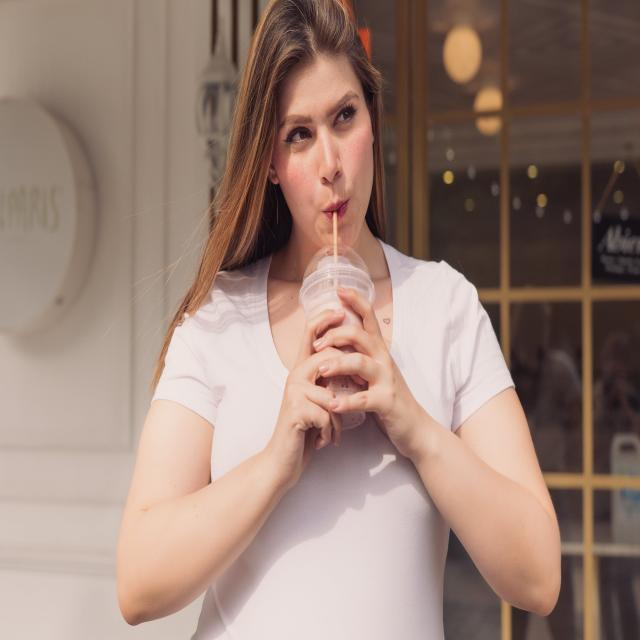cup: (299, 242, 378, 431)
